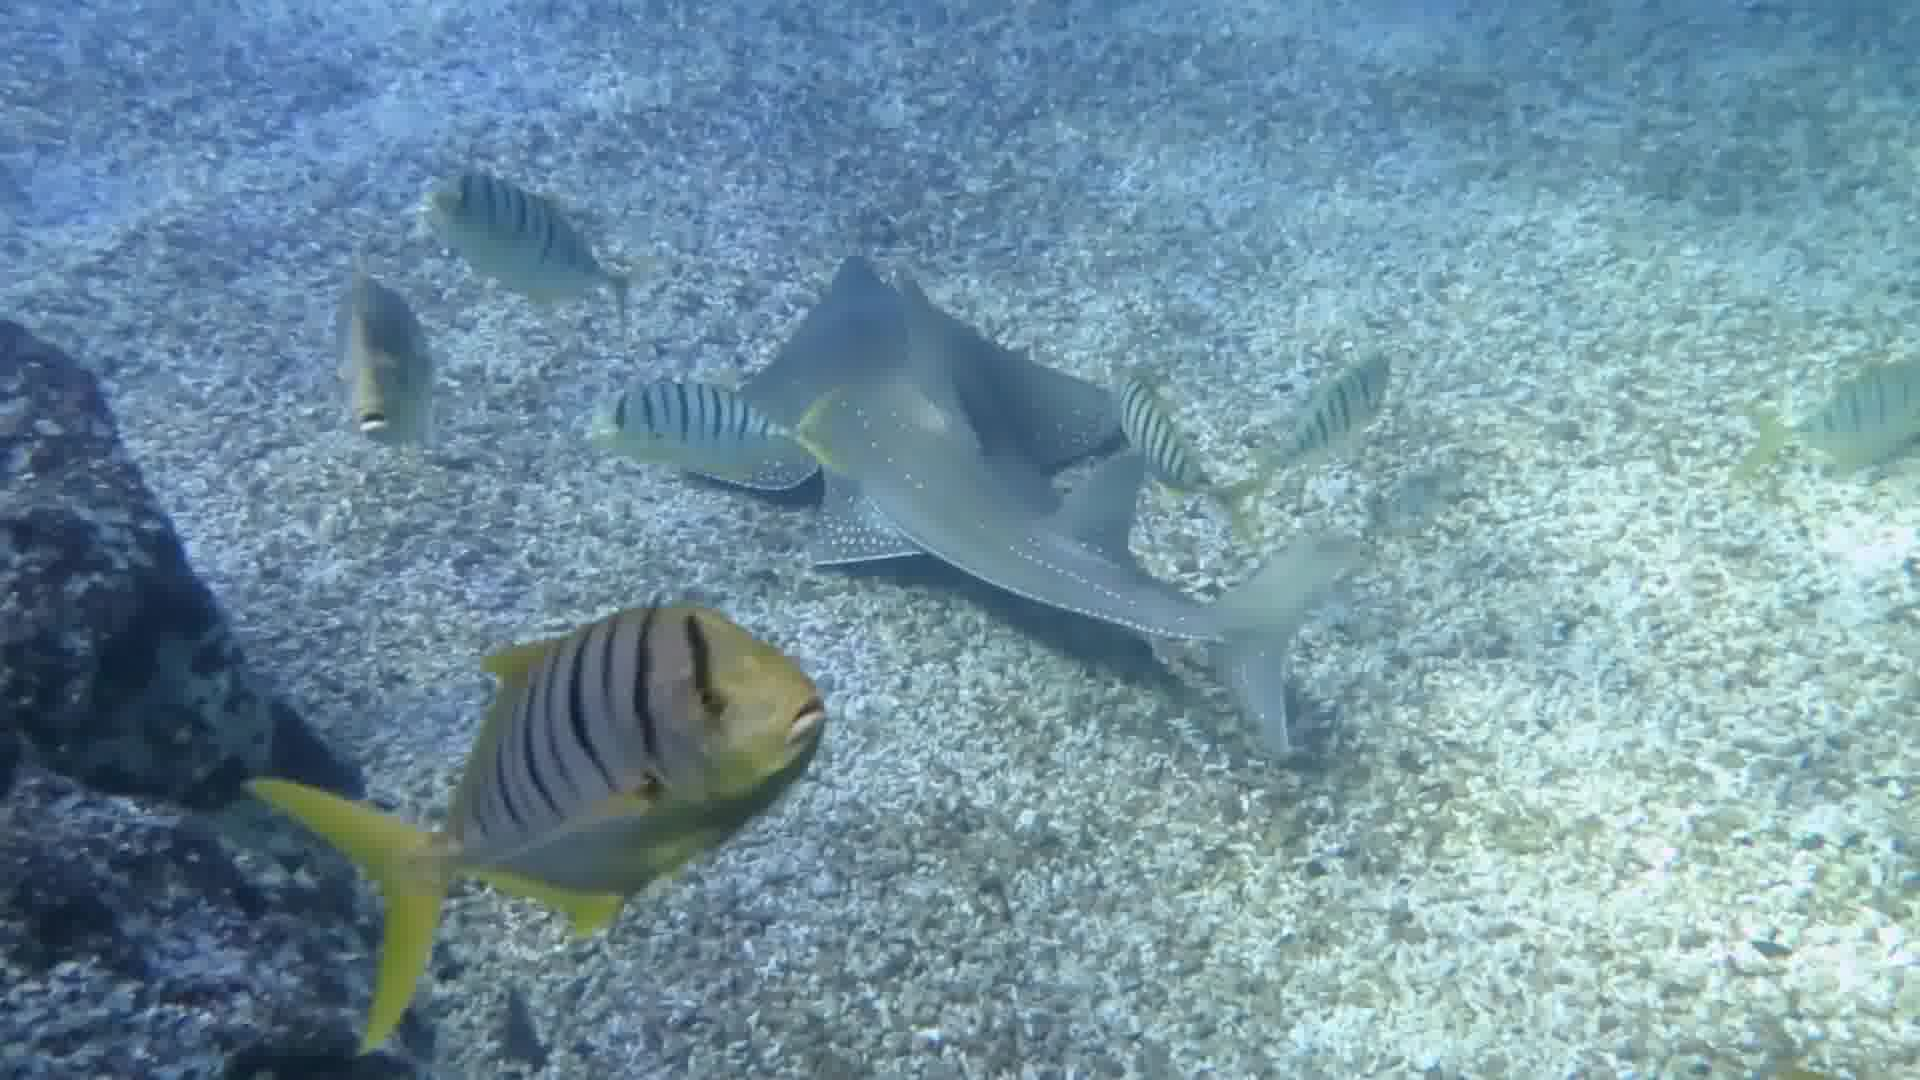Rhychobatus djiddensis: (732, 178, 1389, 767)
